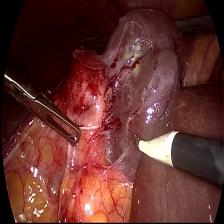Grasper: (5, 64, 83, 151), (72, 30, 110, 53)
Hook: (132, 124, 181, 177)
